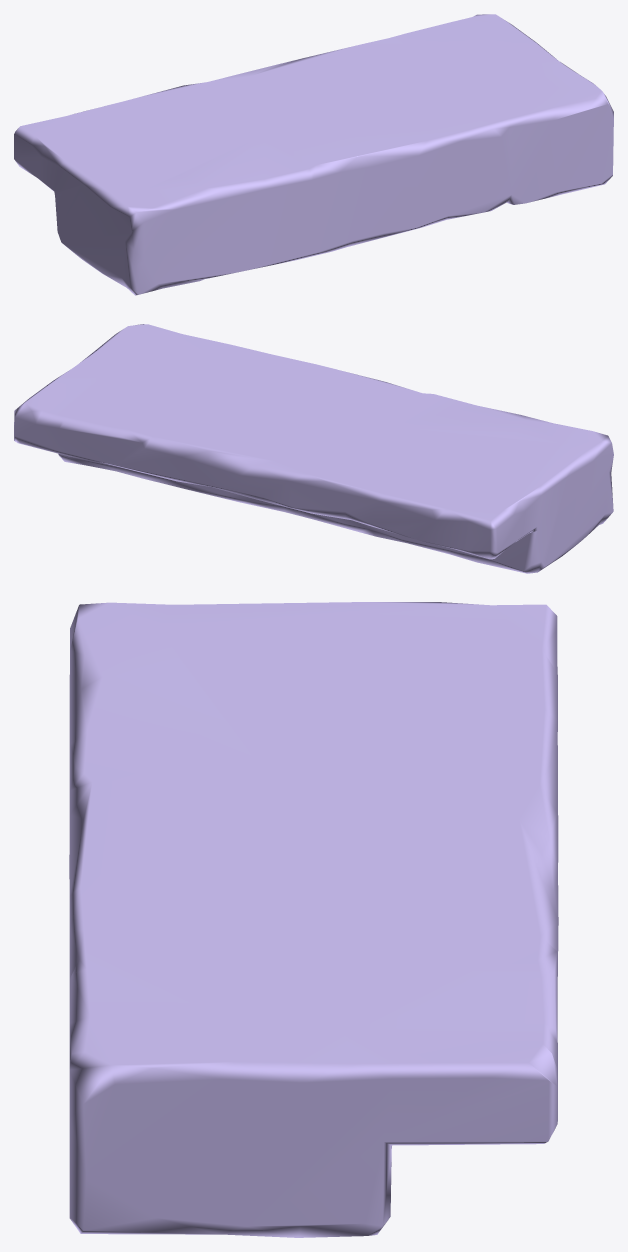
The model's file is stone_tiles_l_ver2_LOD3.fbx.
3 renders of one model, top to bottom at view 1: azimuth 30°, elevation 25°; view 2: azimuth 150°, elevation 25°; view 3: azimuth 270°, elevation 25°, orthographic. The views are drawn at different scales.
Parts seen in each view (by area): view 1: Cube_009_LOD2.001; view 2: Cube_009_LOD2.001; view 3: Cube_009_LOD2.001.
Part boxes in pixels (x1,y1,x2,y2): Cube_009_LOD2.001: [14, 14, 613, 295]; Cube_009_LOD2.001: [14, 324, 613, 573]; Cube_009_LOD2.001: [69, 602, 558, 1237].
Size of the model in its own units: 162 by 28.11 by 71.05.
